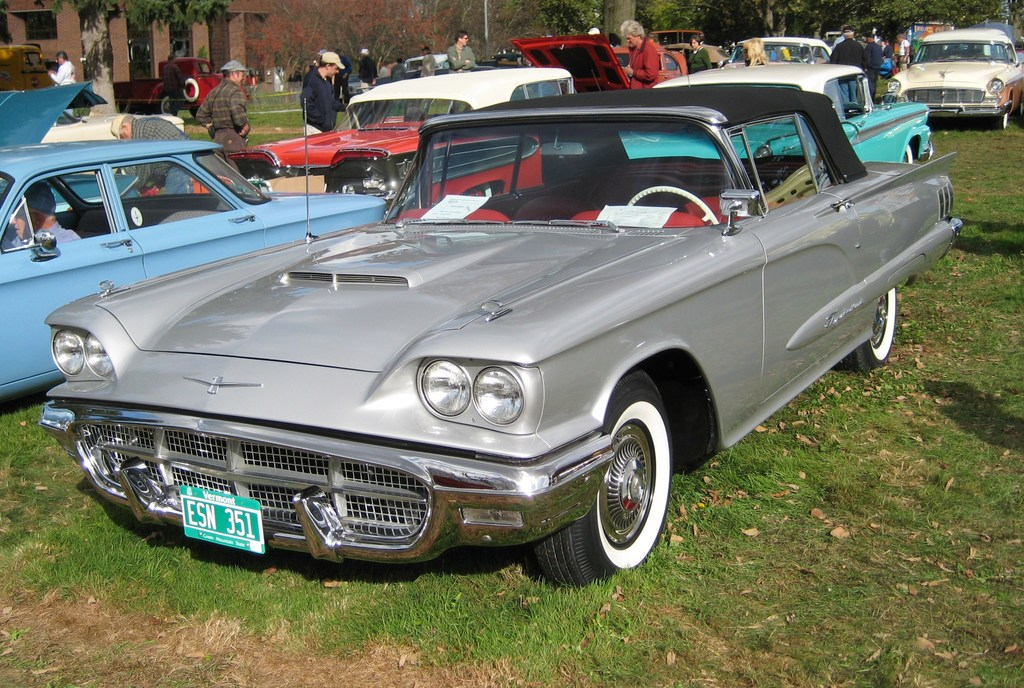Car: (0, 26, 1023, 401), (112, 57, 250, 116)
